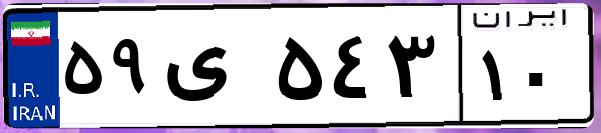0: (525, 38, 570, 115)
1: (475, 38, 525, 113)
3: (385, 28, 445, 110)
4: (330, 28, 385, 110)
5: (270, 28, 330, 110), (57, 26, 110, 100)
9: (110, 28, 158, 98)
ی: (158, 20, 270, 120)
